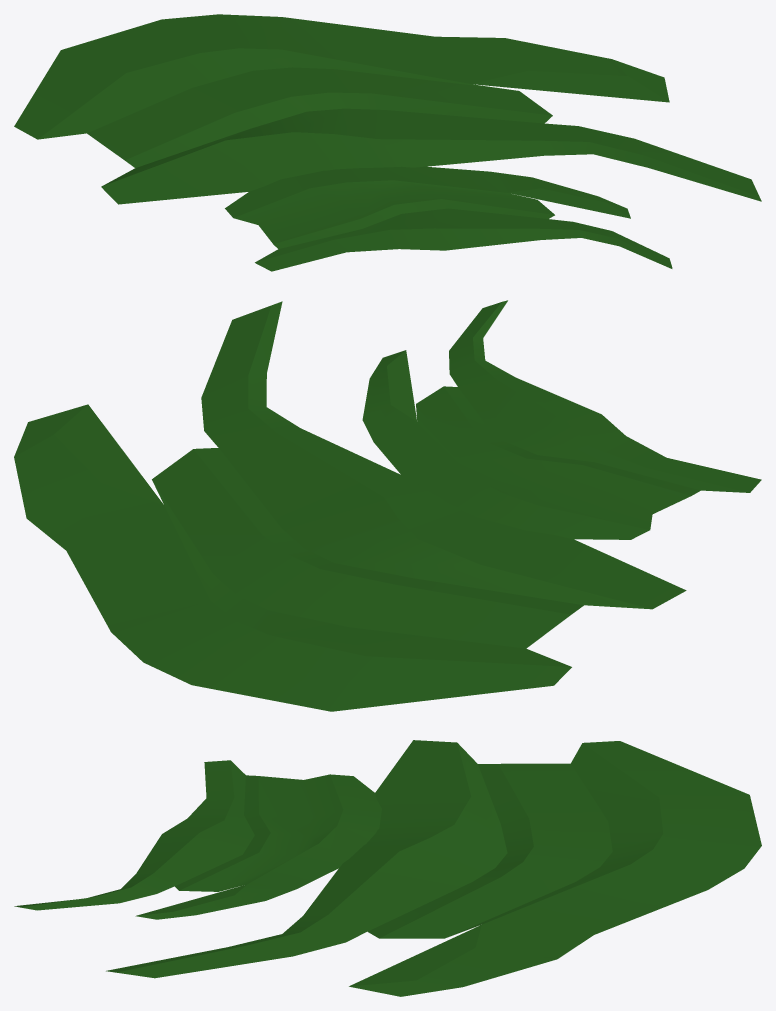
The model's file is caopi3.FBX.
The picture shows the model from 3 angles, top to bottom: view 1: azimuth 30°, elevation 25°; view 2: azimuth 150°, elevation 25°; view 3: azimuth 270°, elevation 25°; orthographic projection. The views are drawn at different scales.
Parts seen in each view (by area): view 1: Dunes002; view 2: Dunes002; view 3: Dunes002.
Boxes of the visible parts, bbox=[...] form: Dunes002: bbox=[14, 14, 761, 271]; Dunes002: bbox=[14, 300, 761, 711]; Dunes002: bbox=[14, 740, 761, 996].
Size of the model in its own units: 10.88 by 0.1859 by 13.39.
